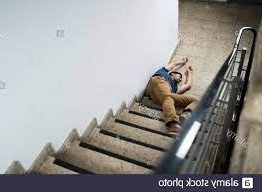fall: (142, 52, 209, 139)
